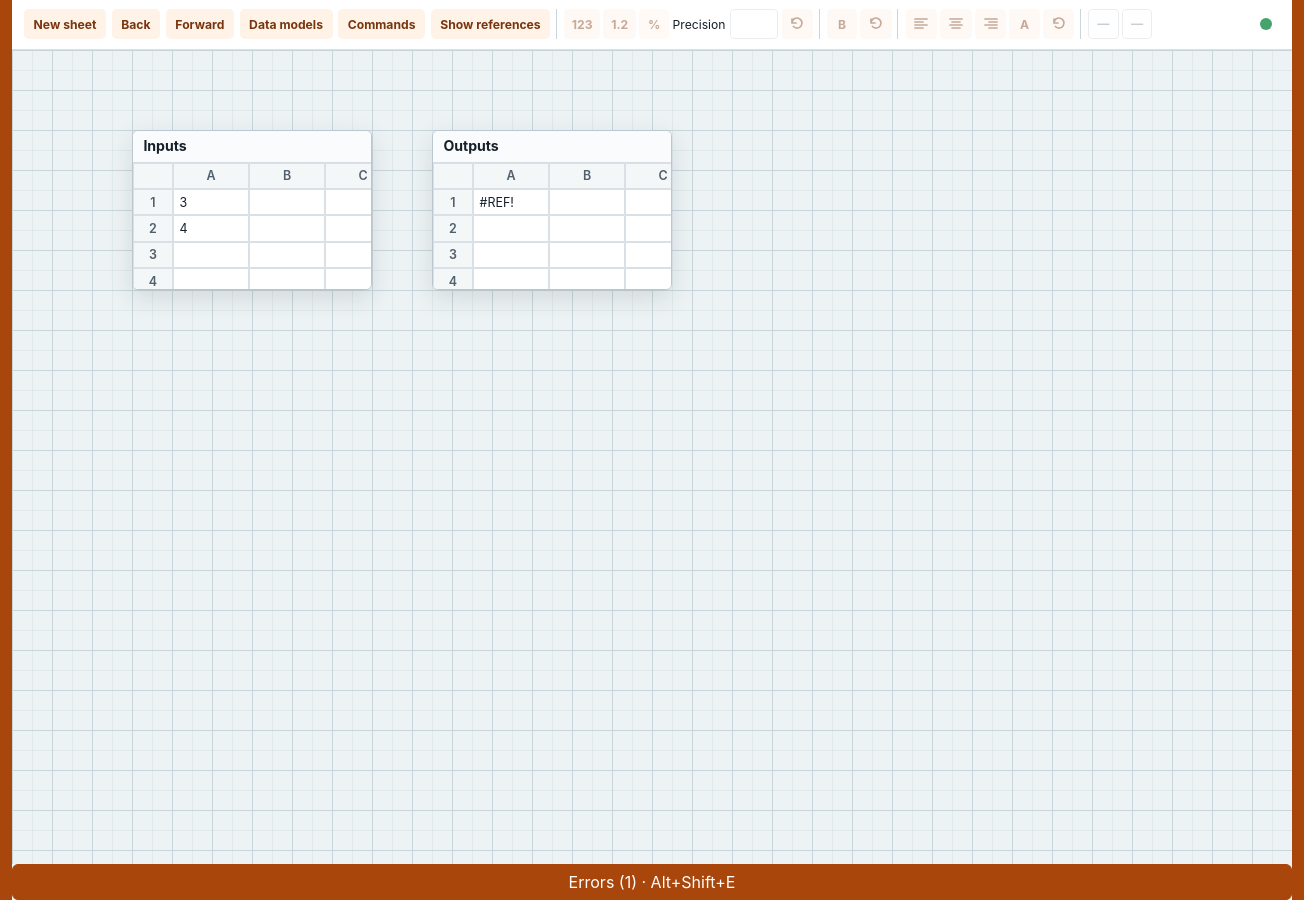
App formula composition › shows calculated values and resolved references in the shared editor
The image size is (1304, 900).
Expected: the cell named "Outputs A1 cell" reads "#REF!", [480,195,514,210]
Click the cell named "Outputs A1 cell" at x=511, y=202, box [473,189,549,215]
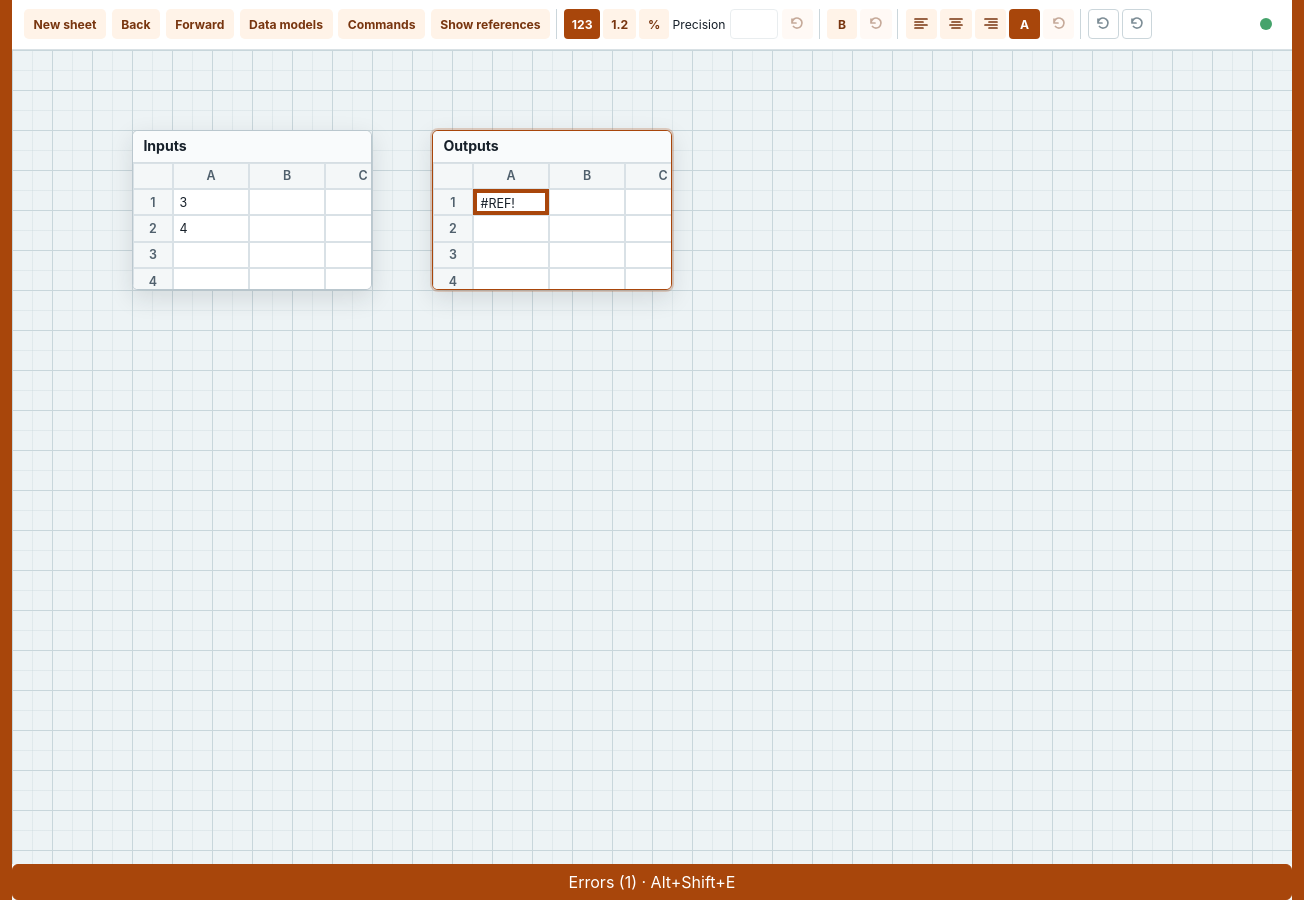
Press F2 in the cell named "Outputs A1 cell", box [473,189,549,215]
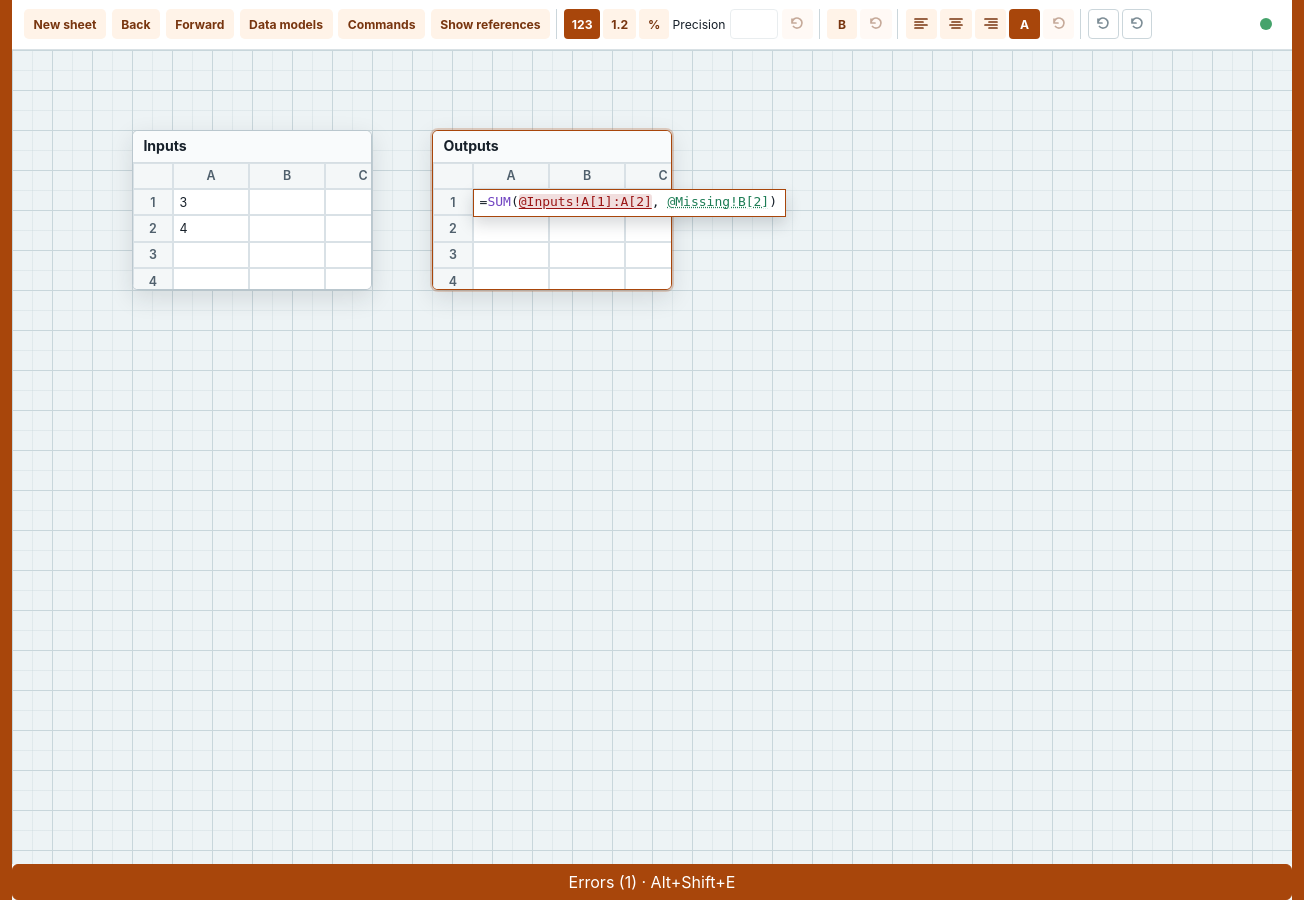
Expected: the text box holds "=SUM(@Inputs!A[1]:A[2], @Missing!B[2])", [474,190,785,216]
